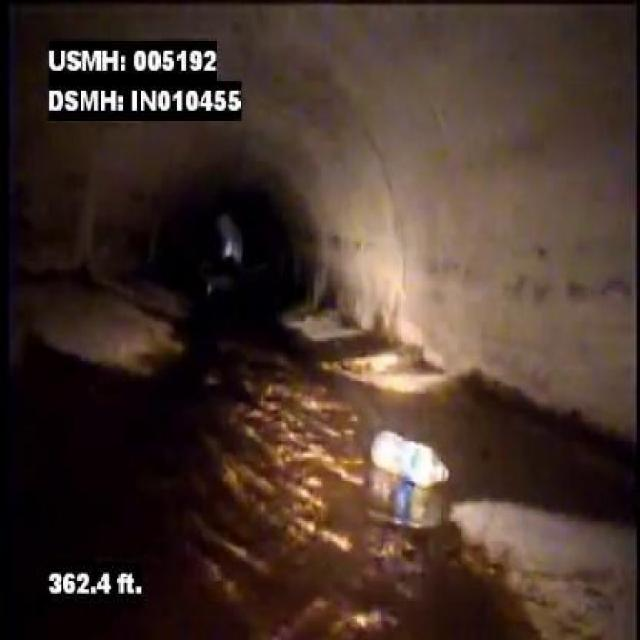Crack: (489, 266, 638, 308)
